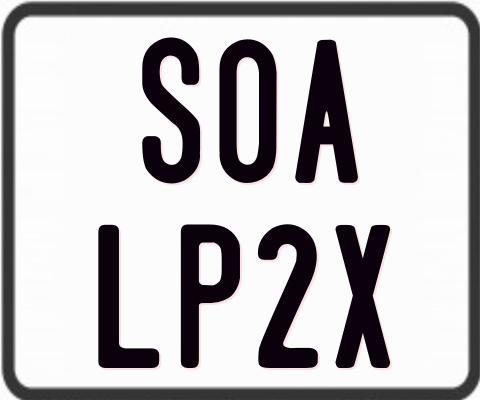0: (218, 37, 279, 183)
2: (255, 223, 316, 371)
A: (294, 40, 360, 189)
L: (98, 224, 164, 372)
P: (180, 223, 242, 368)
S: (139, 37, 199, 189)
X: (334, 225, 390, 369)
